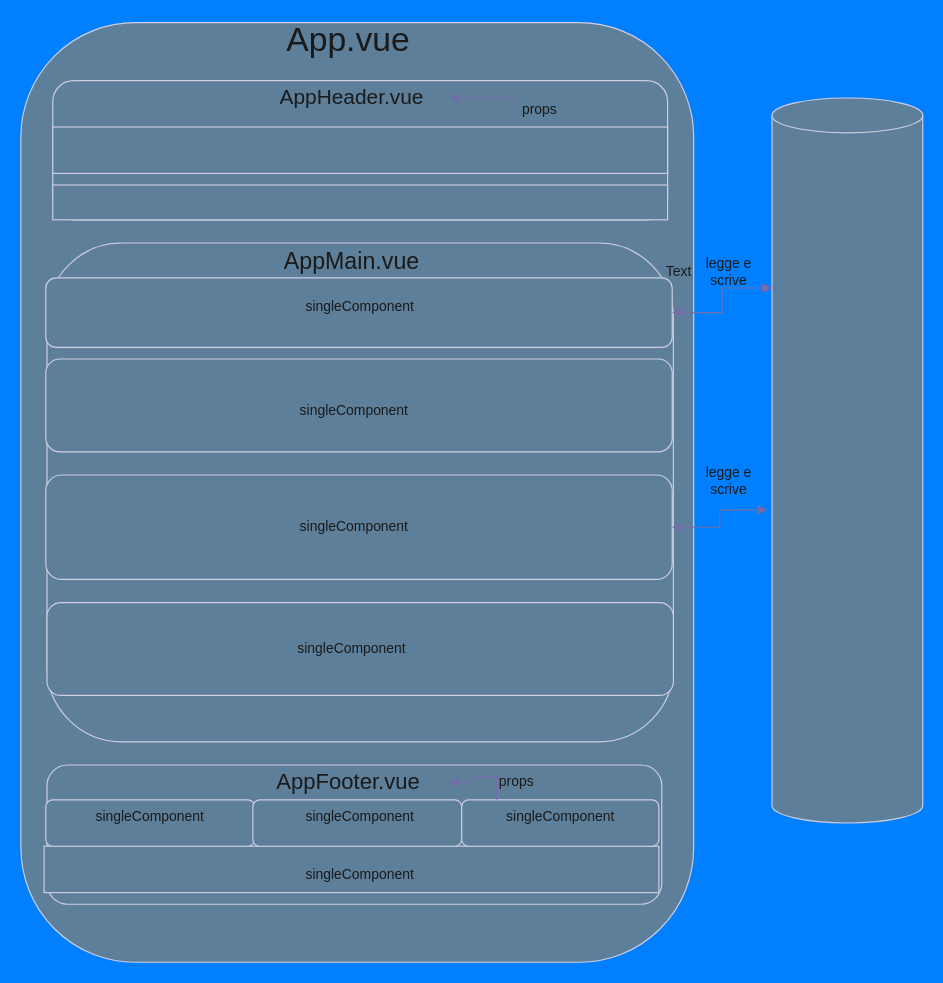
The diagram is 943 pixels wide and 983 high, and some of its shapes have lost their labels. The box of each missing label's shape, as (x1, y1, x2, y2) in pixels:
singleComponentBottom: (52, 184, 668, 220)
singleComponentTop: (52, 126, 668, 173)
store.js: (771, 97, 923, 823)
